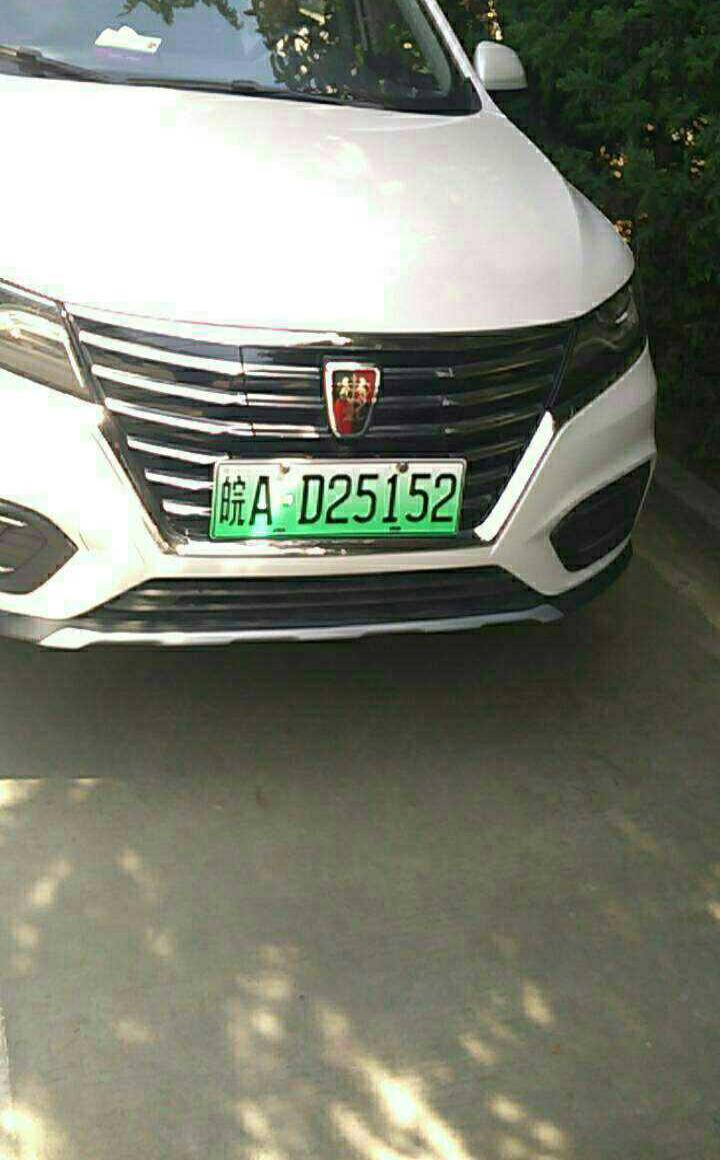car_id: (208, 460, 466, 532)
